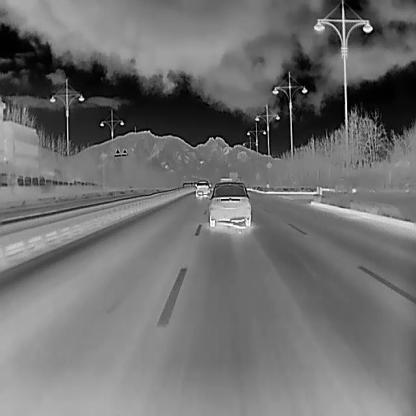car: (208, 181, 250, 227), (193, 179, 211, 197)
